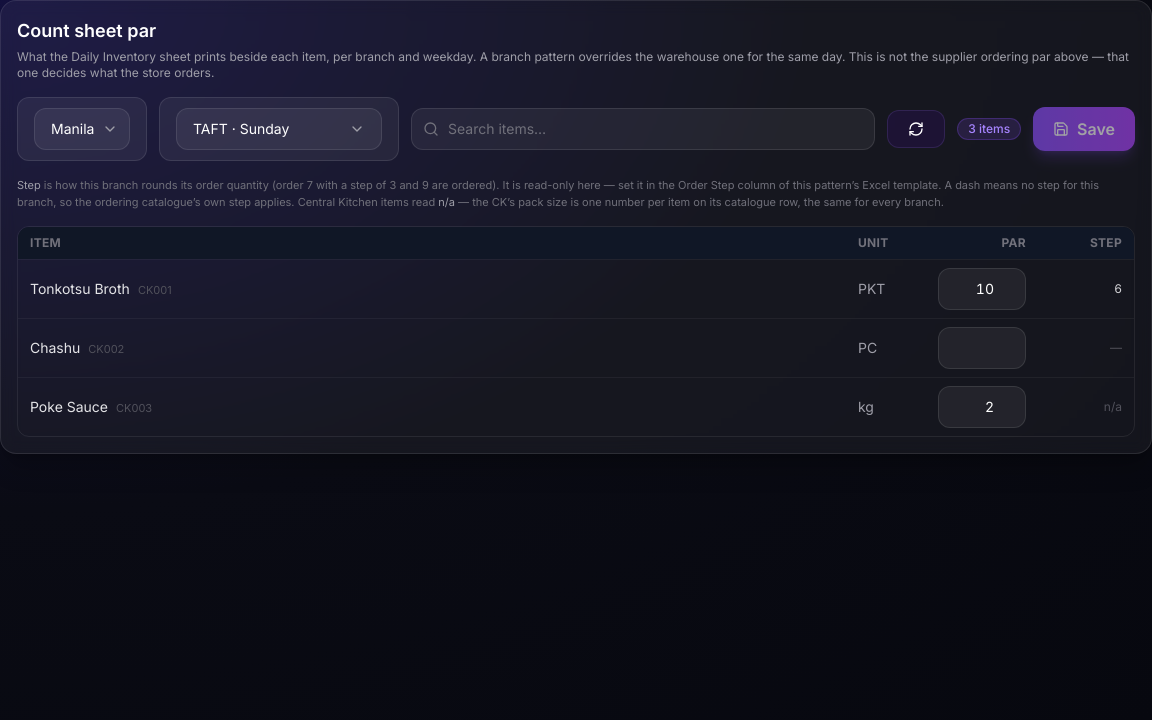
Test: count sheet par editor › says a failed save failed
Expected: the text "Tonkotsu Broth" is shown, [30, 280, 130, 297]
Type "4" into the number field named "Par level for Chashu" at (982, 348), box [938, 327, 1026, 369]
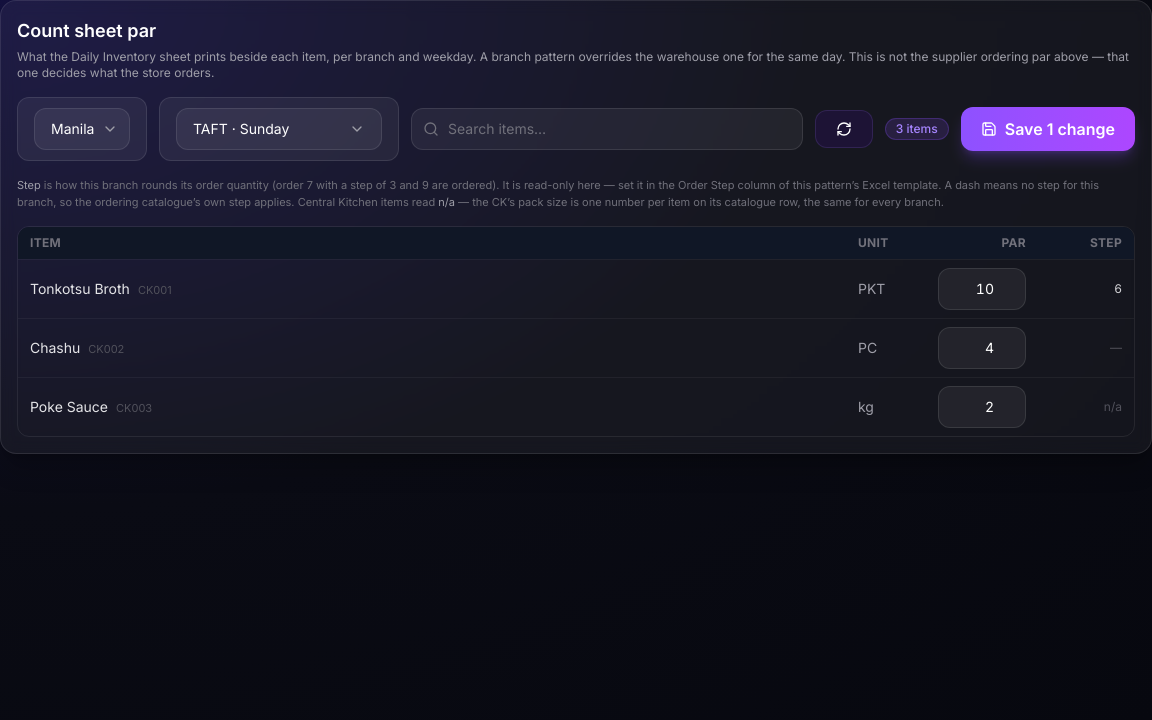
Click the button "Save 1 change" at (1048, 129), box [961, 107, 1135, 151]
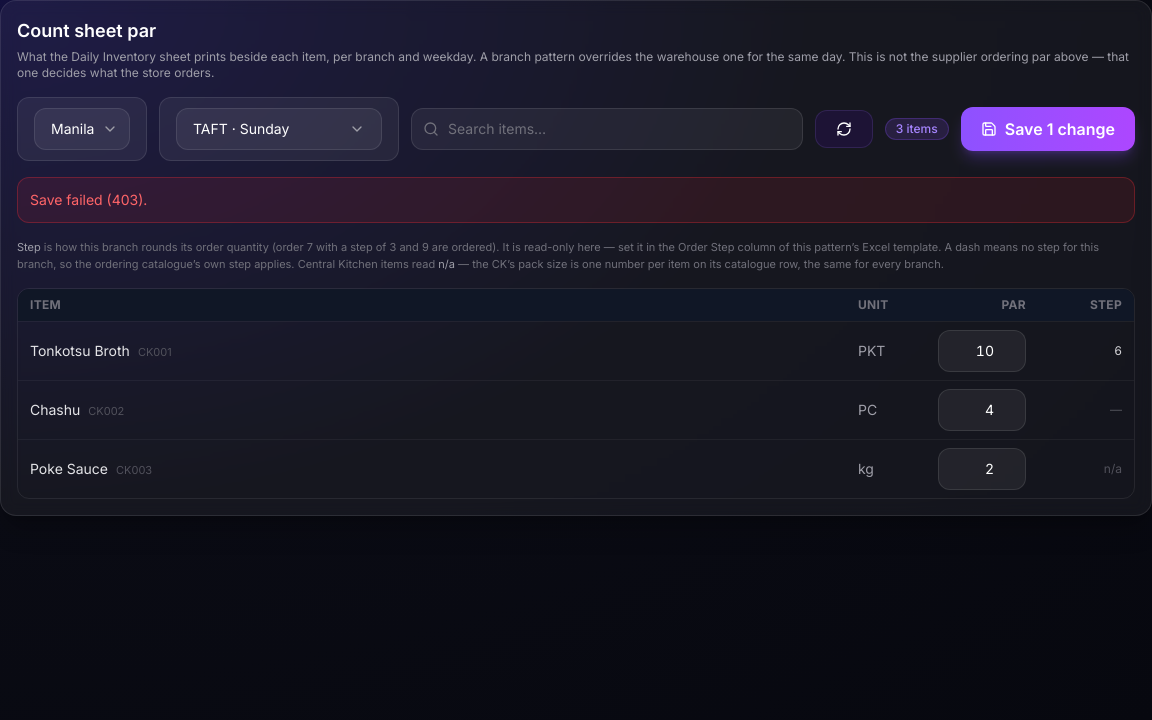
Result: the text "Save failed (403)." is shown at [17, 177, 1135, 223]
